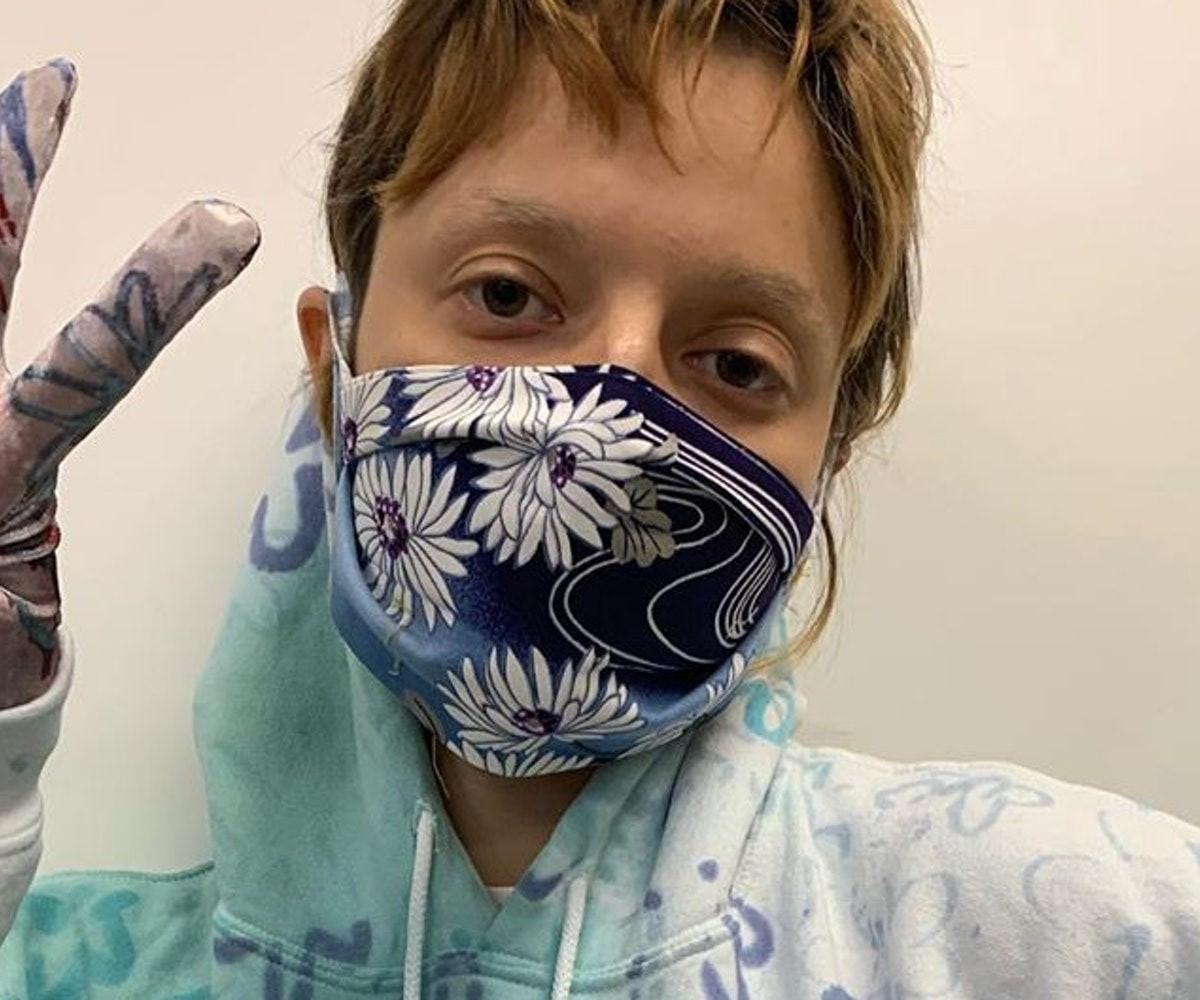face_with_mask: (264, 24, 888, 803)
